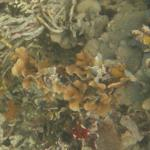alive: (3, 5, 138, 143)
